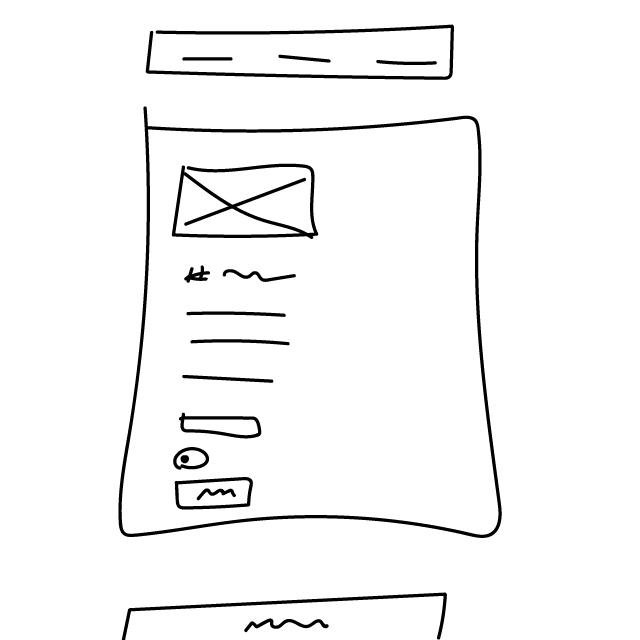button: (173, 476, 261, 513)
checkbox: (172, 446, 212, 473)
container: (112, 103, 516, 561)
footer: (115, 586, 465, 640)
frame: (171, 161, 327, 244)
heading: (185, 256, 303, 295)
input: (178, 409, 267, 443)
nav: (141, 21, 465, 87)
text: (185, 305, 293, 387)
